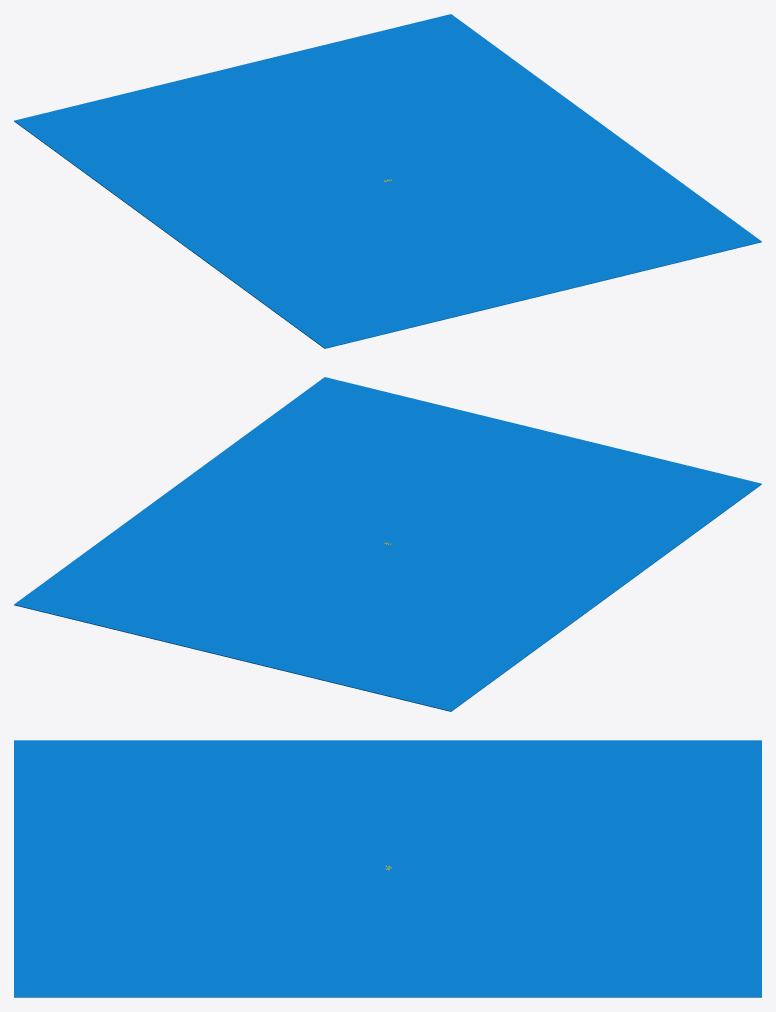
The picture shows the model from 3 angles, top to bottom: view 1: azimuth 30°, elevation 25°; view 2: azimuth 150°, elevation 25°; view 3: azimuth 270°, elevation 25°; orthographic projection. The views are drawn at different scales.
Parts seen in each view (by area): view 1: Plane; view 2: Plane; view 3: Plane.
Boxes of the visible parts, x1,y1,x2,y2 form: Plane: (14, 14, 761, 348); Plane: (14, 377, 761, 711); Plane: (14, 740, 761, 997).
Bounding box in the file's own units: 1264 × 4.57 × 1556.
Materials: 16 (14 with a texture image).
